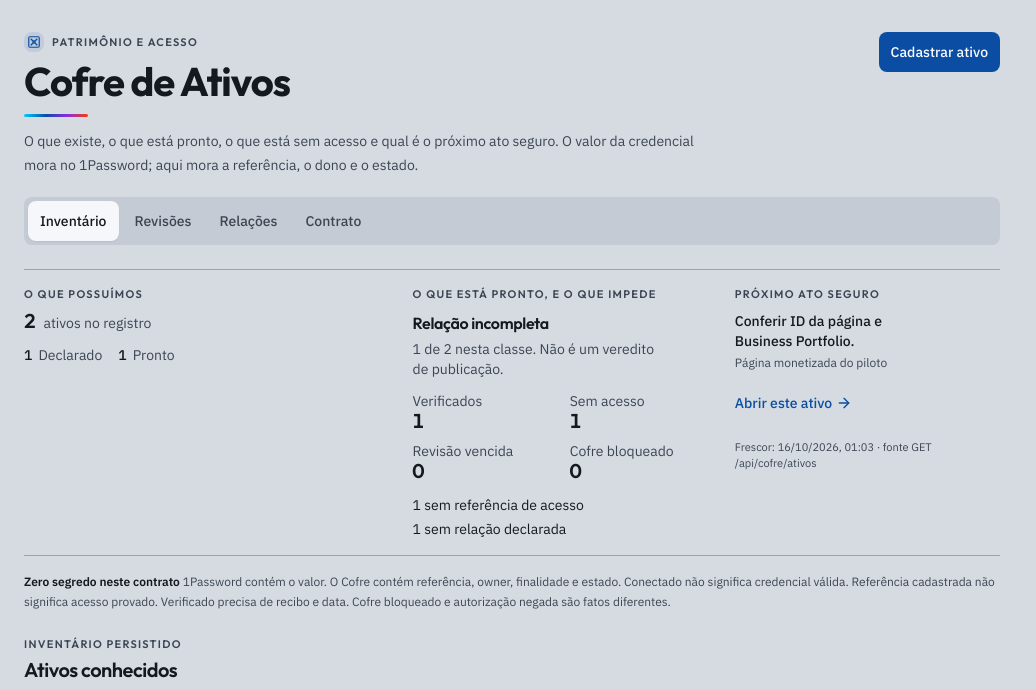
Test: Cofre de Ativos — inventário real › as quatro lentes existem e cada uma muda a tela
The width and height of the screenshot is (1036, 690).
Expected: the button "Inventário" is shown, [28,201,118,241]
Click the button "Revisões".
click(163, 221)  # box [122,201,204,241]
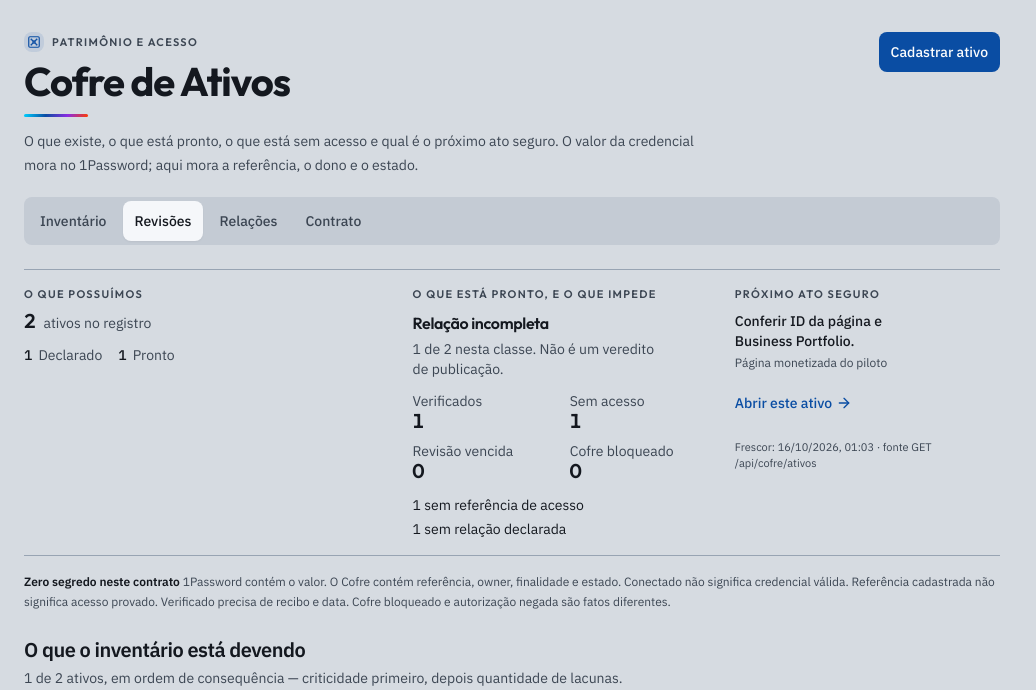
Expected: the heading "O que o inventário está devendo" is shown, [24,636,305,662]
Click the button "Relações".
click(248, 221)  # box [208,201,290,241]
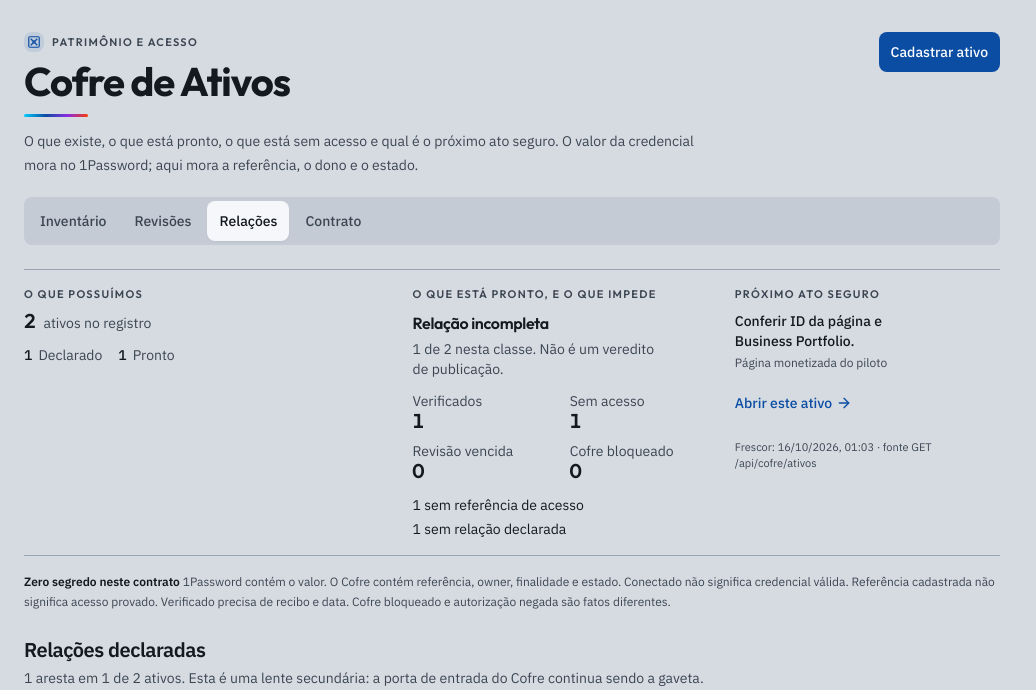
Expected: the heading "Relações declaradas" is shown, [24,636,205,662]
Click the button "Contrato".
click(333, 221)  # box [294,201,373,241]
(page scrolled)
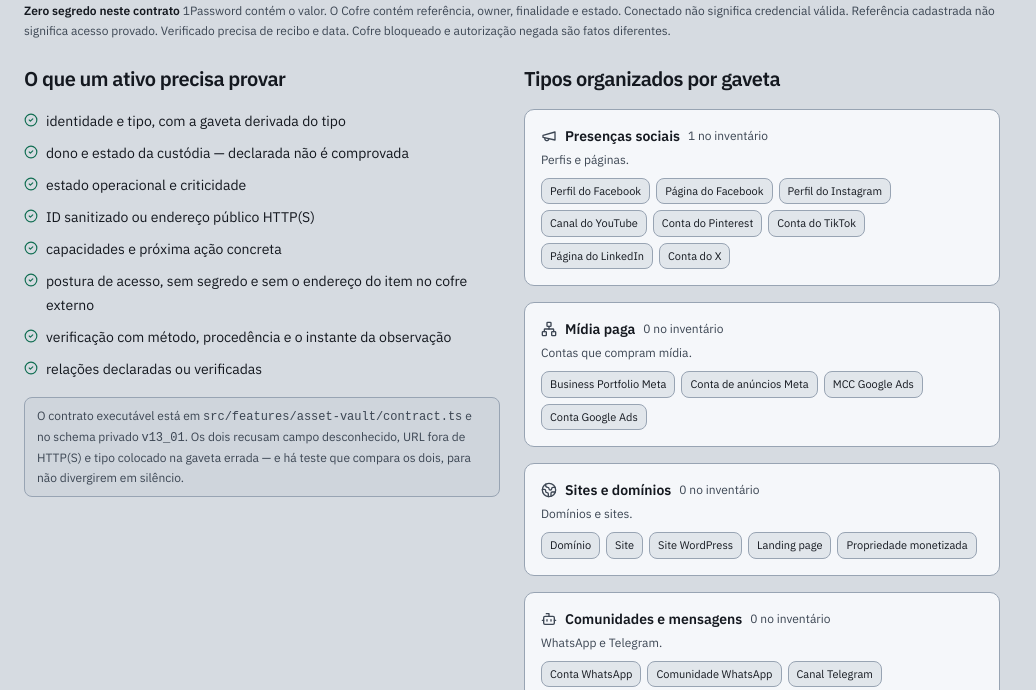
Expected: the heading "O que um ativo precisa provar" is shown, [24,64,286,92]
Expected: the heading "Tipos organizados por gaveta" is shown, [524,64,780,92]
Expected: the text "Business Portfolio Meta" is shown, [541,371,675,398]
